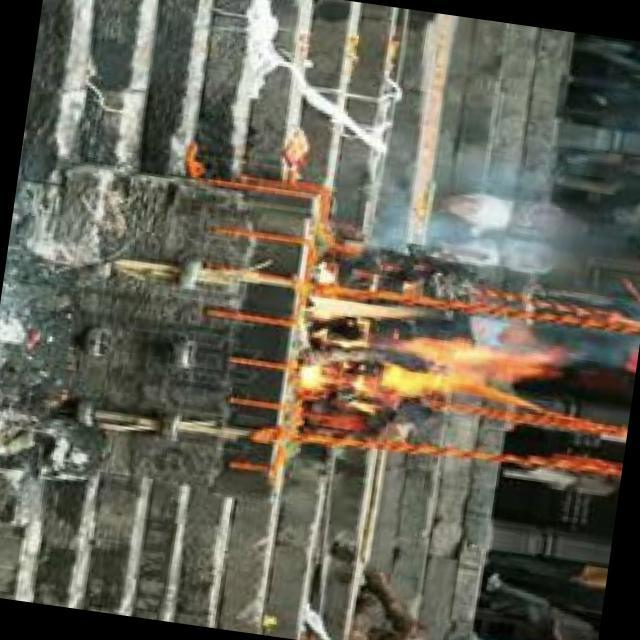Fire: (292, 275, 571, 420)
